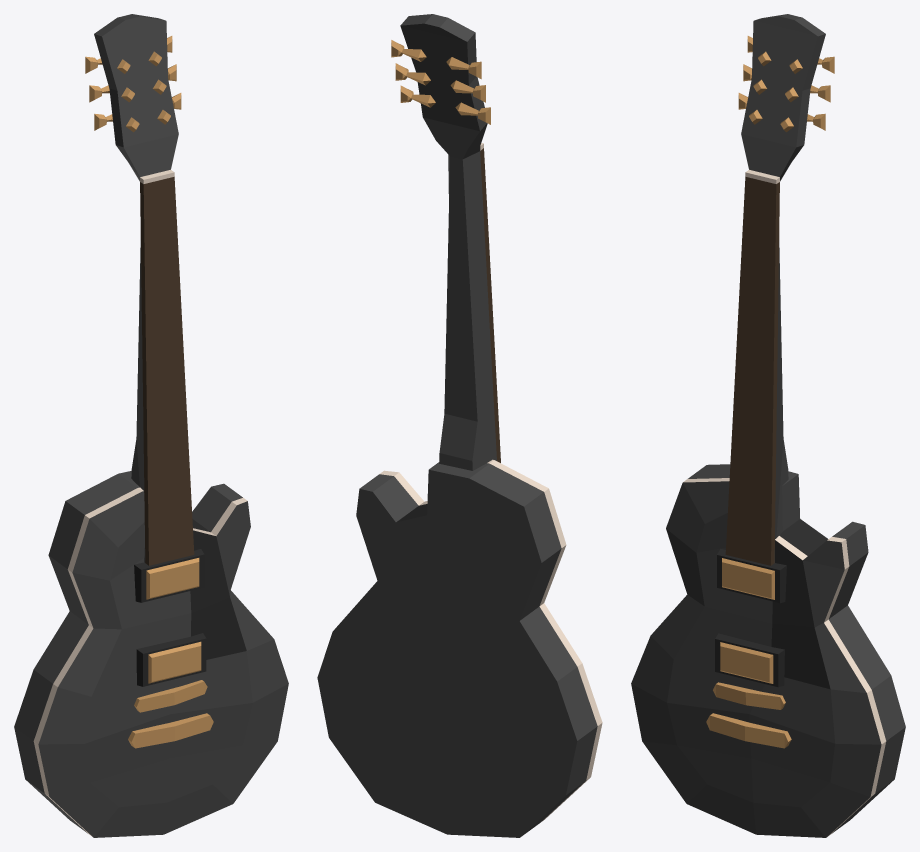
The model's file is guitar-electric-rock.fbx.
3 renders of one model, left to right at view 1: azimuth 30°, elevation 25°; view 2: azimuth 150°, elevation 25°; view 3: azimuth 330°, elevation 25°, orthographic. The views are drawn at different scales.
Parts seen in each view (by area): view 1: guitar-electric-rock; view 2: guitar-electric-rock; view 3: guitar-electric-rock.
Boxes of the visible parts, x1,y1,x2,y2 form: guitar-electric-rock: (14,14,288,837); guitar-electric-rock: (317,14,602,837); guitar-electric-rock: (631,14,905,837).
Size of the model in its own units: 0.3399 by 1.03 by 0.1199.
